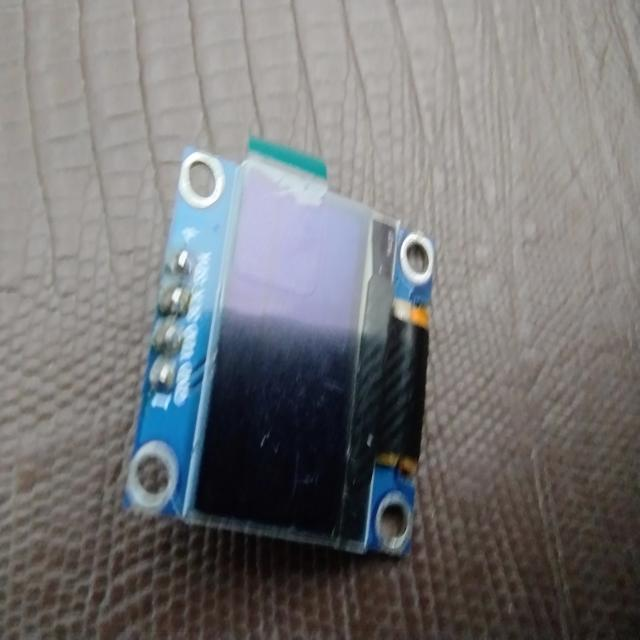oled: (114, 133, 447, 574)
